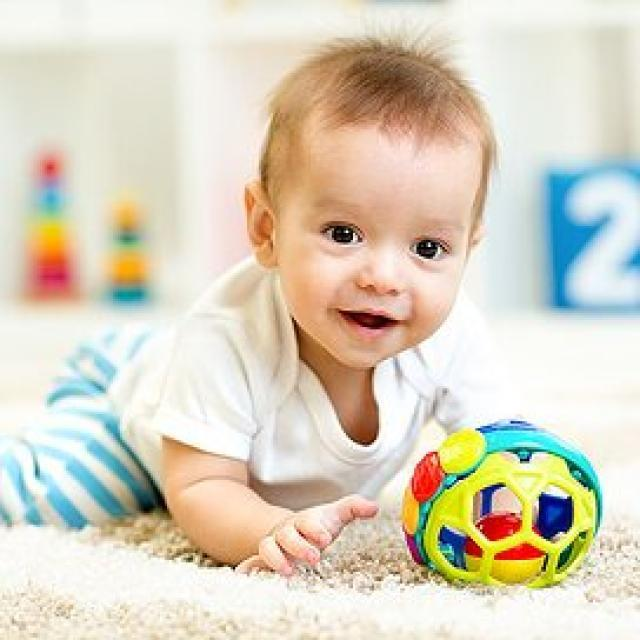non-dog: (0, 29, 503, 577)
